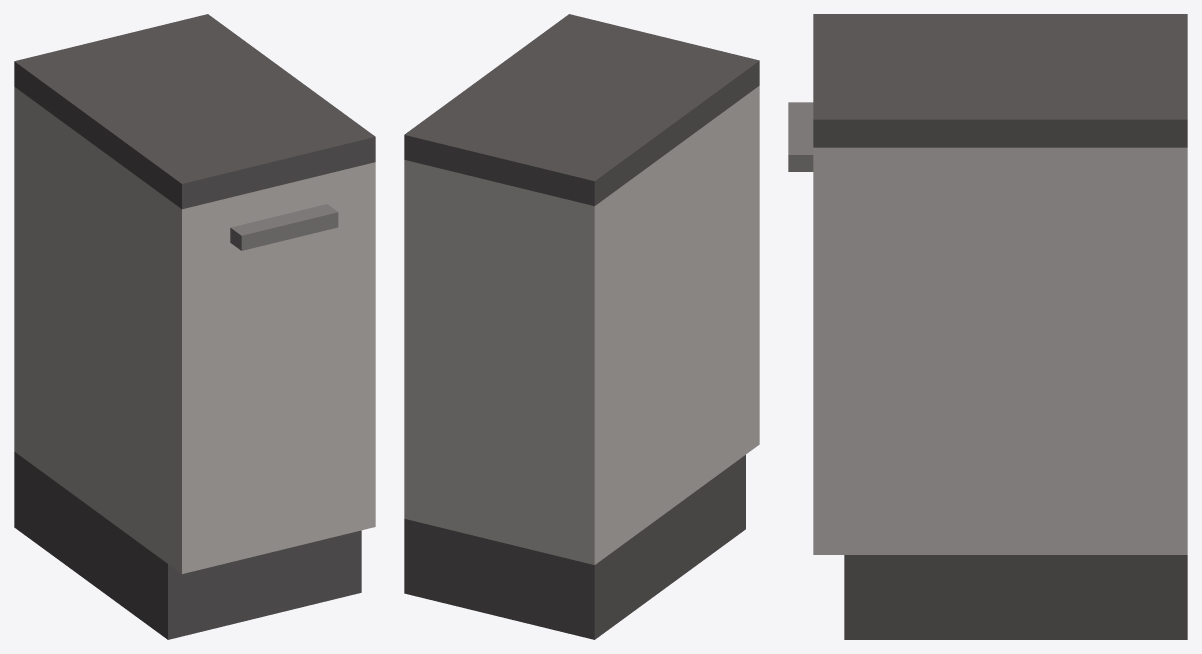
Rendered from cabinet-kitchen-small.glb.
3 renders of one model, left to right at view 1: azimuth 30°, elevation 25°; view 2: azimuth 150°, elevation 25°; view 3: azimuth 270°, elevation 25°, orthographic. The views are drawn at different scales.
Parts seen in each view (by area): view 1: cabinet-kitchen-small; view 2: cabinet-kitchen-small; view 3: cabinet-kitchen-small.
Part boxes in pixels (<box>): cabinet-kitchen-small: <box>14,14,375,639</box>; cabinet-kitchen-small: <box>404,14,759,639</box>; cabinet-kitchen-small: <box>788,14,1187,639</box>.
Bounding box in the file's own units: 0.4 × 0.92 × 0.64.
1 material, 1 textured.
